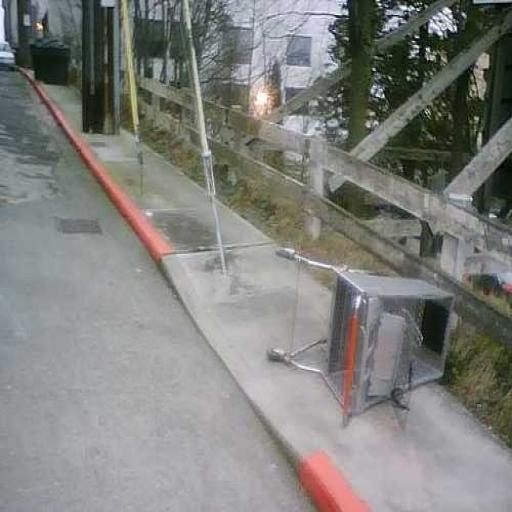shopping_cart: (263, 244, 457, 432)
